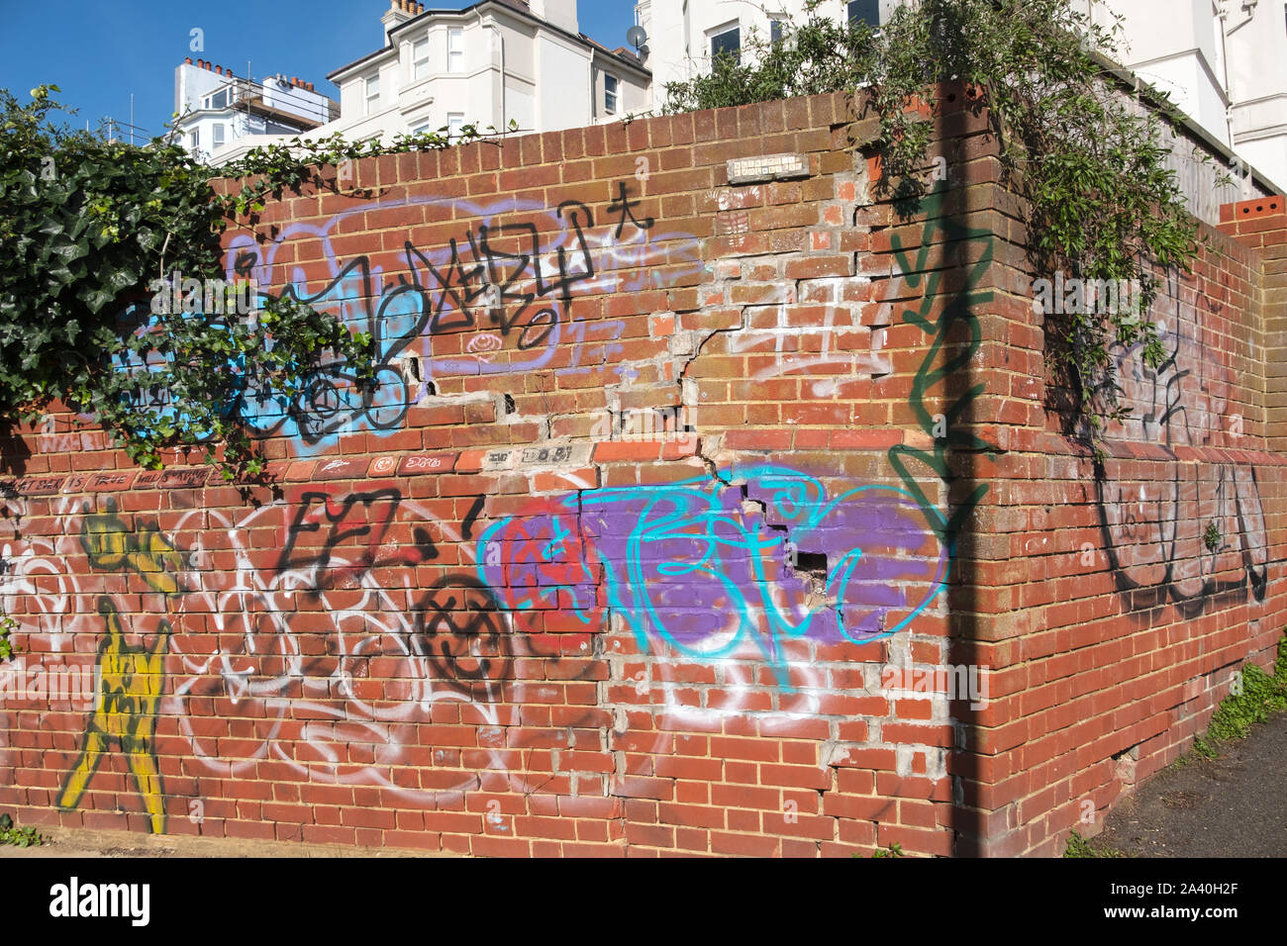Wall: (977, 563, 1185, 766)
